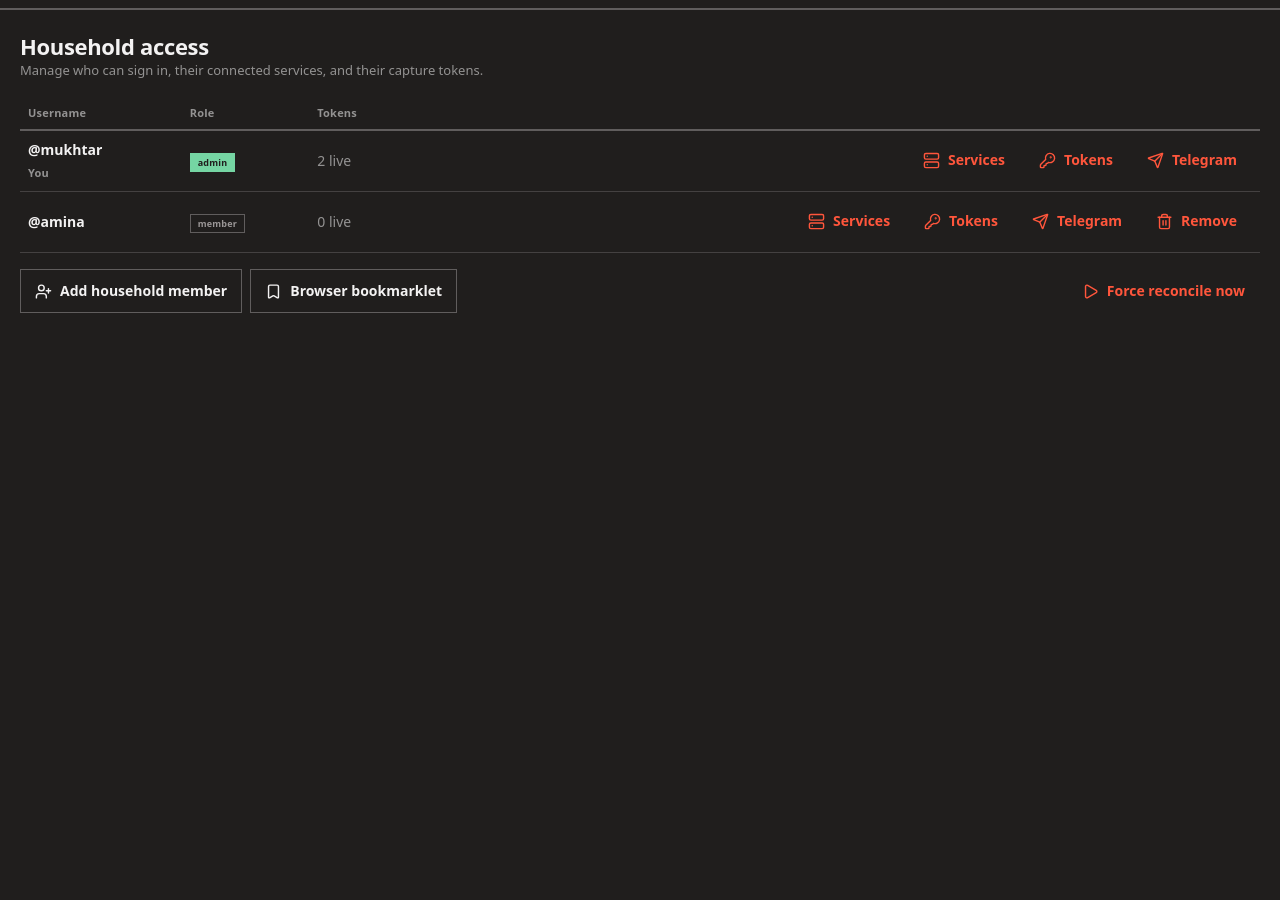
Test case: household › opens one member’s tokens from their row
Expected: the text "@amina" is shown, left=28, top=212, right=85, bottom=231
Click the button "Tokens" in the row of "amina". click: (961, 222)
box: left=909, top=200, right=1013, bottom=244
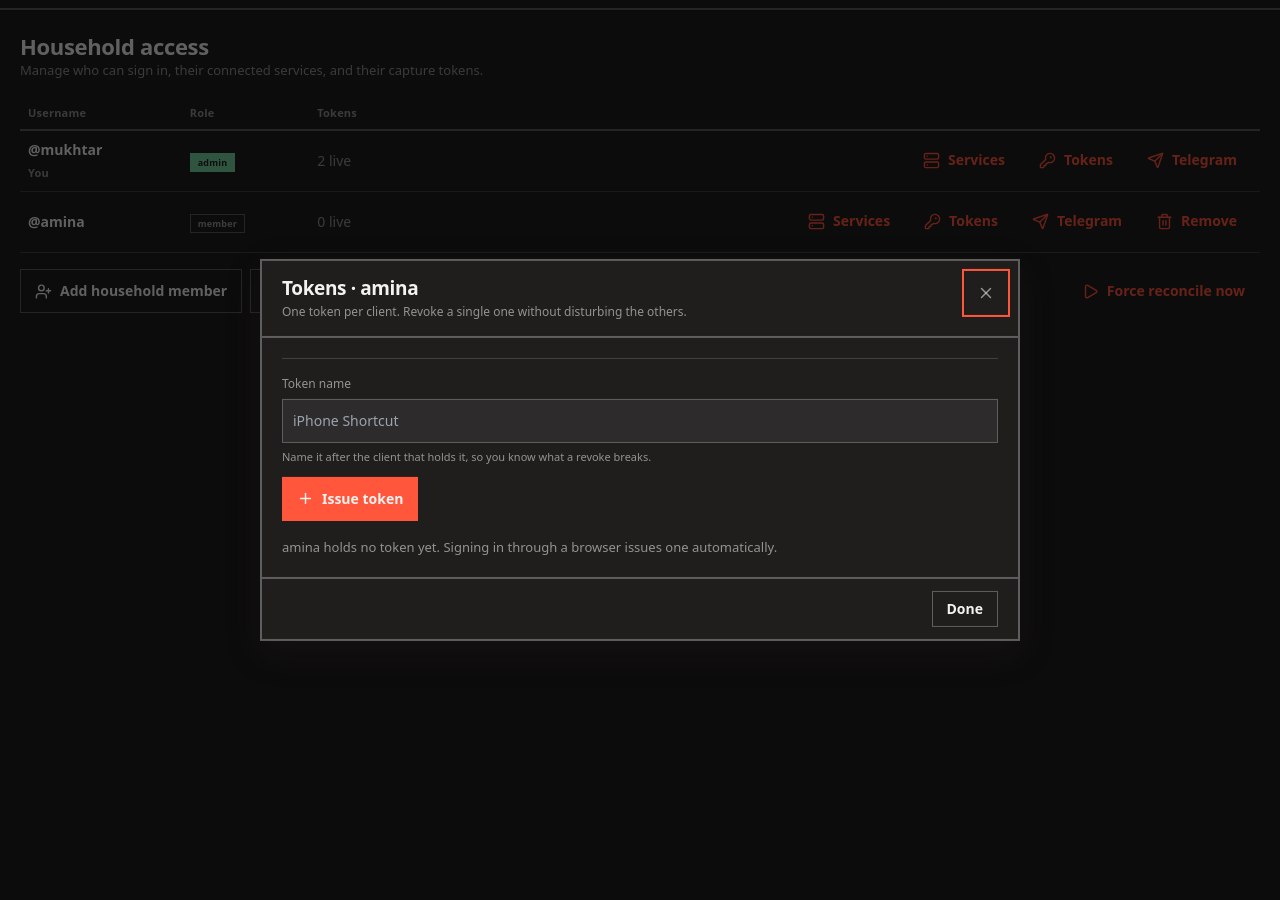
Result: the dialog "Tokens · amina" is shown at left=260, top=259, right=1020, bottom=641
Result: the field labelled "Token name" is shown at left=282, top=399, right=998, bottom=443
